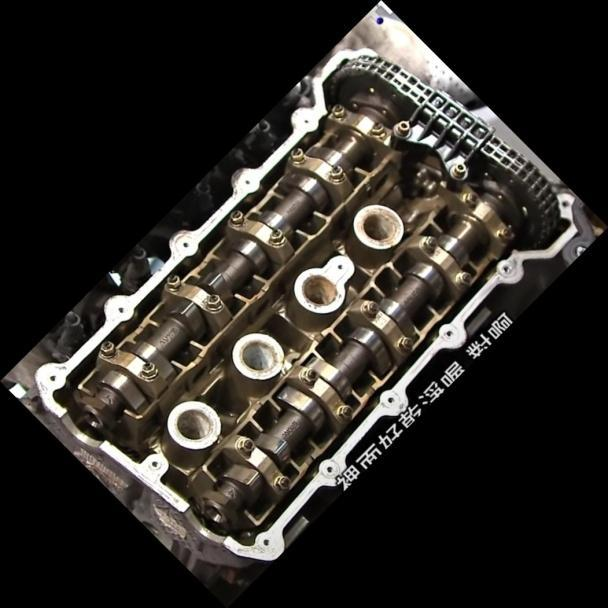hole: (179, 238, 192, 251), (500, 262, 513, 274), (115, 304, 127, 316), (149, 458, 161, 470), (261, 535, 273, 547), (385, 393, 396, 405), (48, 371, 59, 382), (323, 463, 334, 474), (444, 328, 455, 338), (301, 116, 310, 126), (242, 177, 251, 186)
